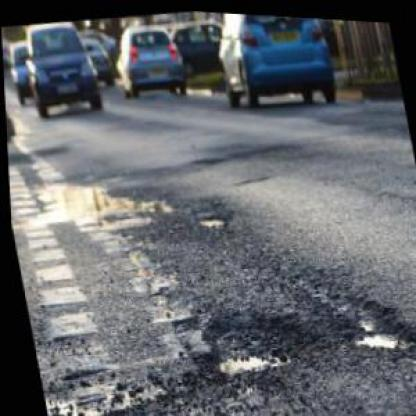pothole: (197, 305, 304, 380), (332, 278, 414, 353), (194, 208, 225, 229)
